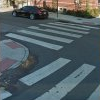crosswalk: (18, 57, 100, 100), (4, 21, 90, 50)
